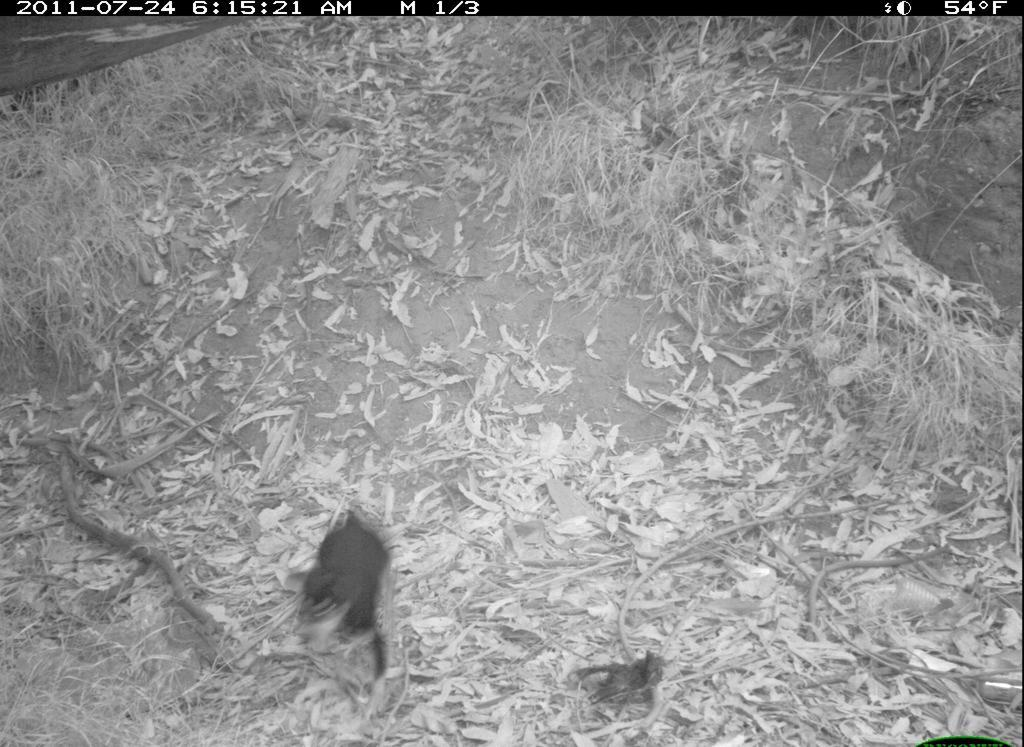dog: (276, 475, 409, 707)
